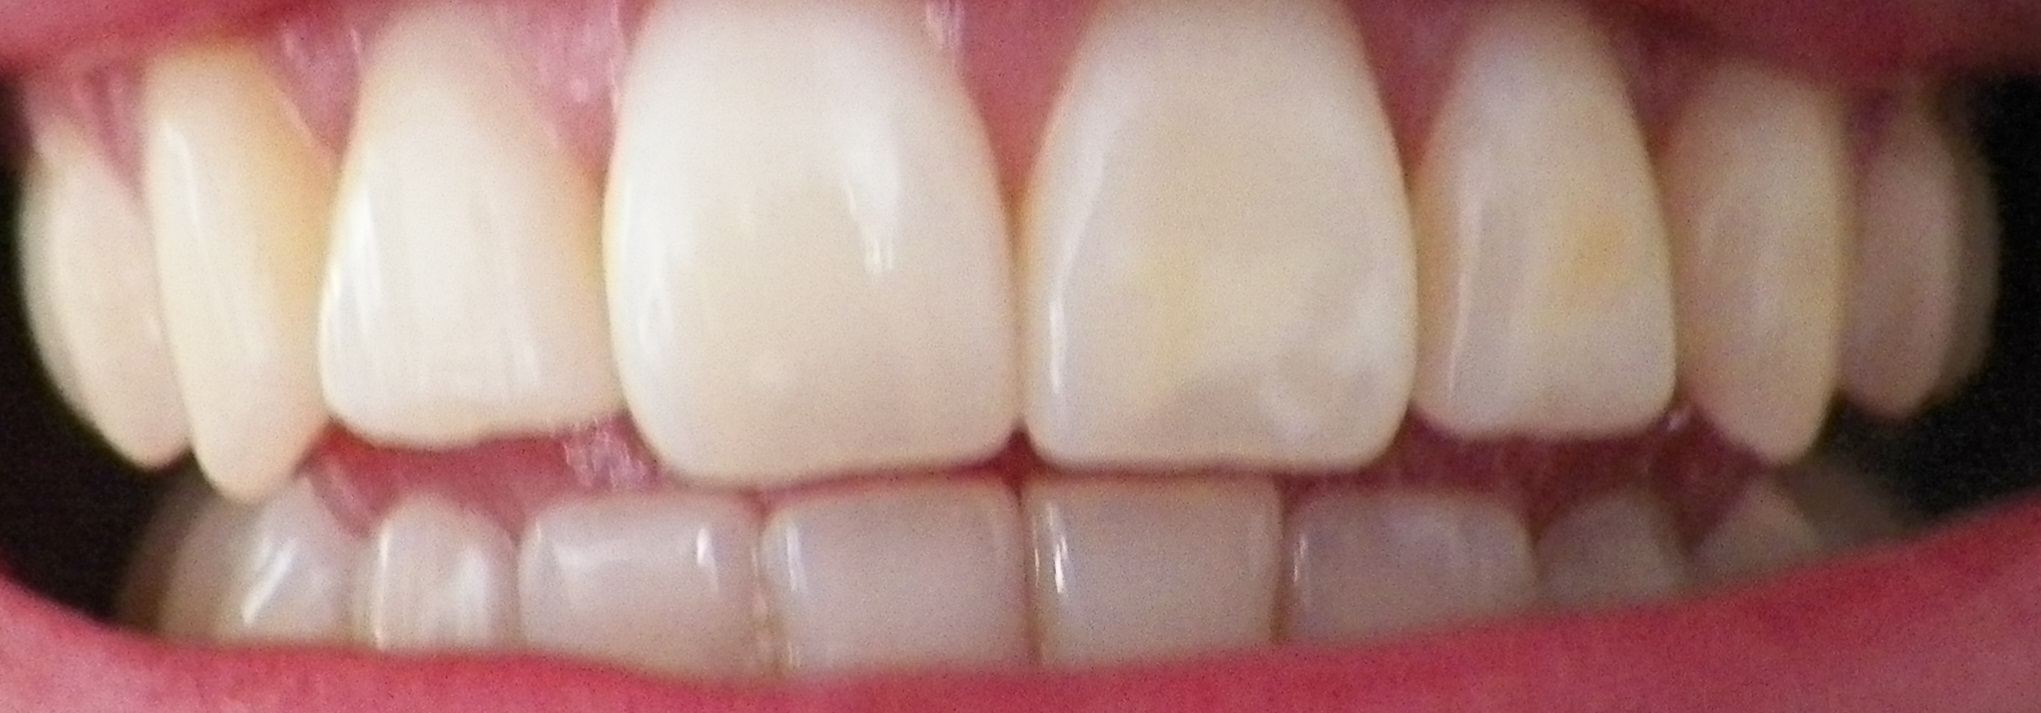boca: (30, 33, 1967, 671)
